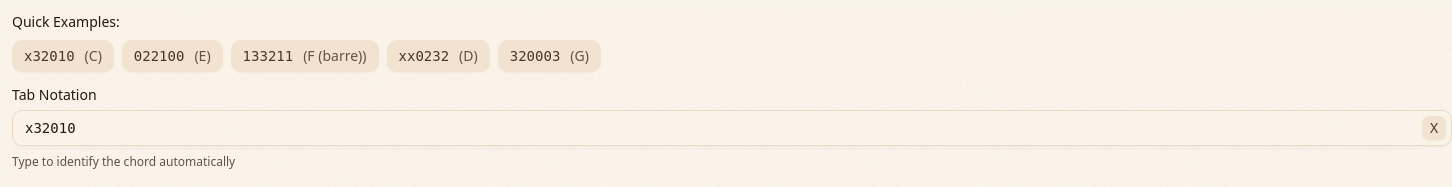
Test: Form - Clear Button › should reset to open strings (000000) when clear button is clicked
The width and height of the screenshot is (1452, 187).
Check: the field with test id "tab-input" holds "x32010", box [13, 108, 1422, 148]
What coordinates should you click on to do the following:
click the button "X"
I would click on:
 (1434, 128)
Its box is [1422, 116, 1446, 140].
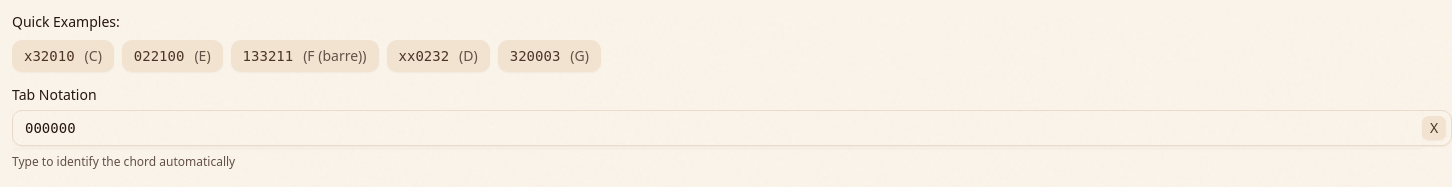
Check: the field with test id "tab-input" holds "000000", box [13, 108, 1422, 148]
